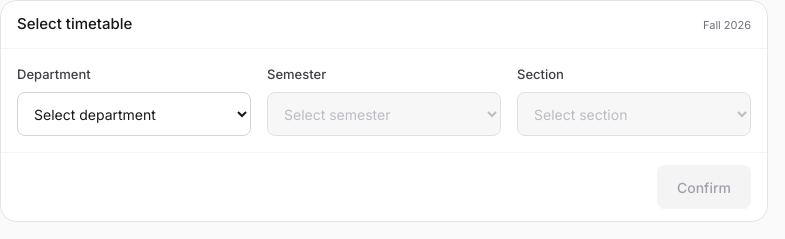
it: SectionPicker › progressively filters sections by department and semester
Select "CS" in the dropdown labelled "Department" at (134, 114), box [17, 92, 251, 136]
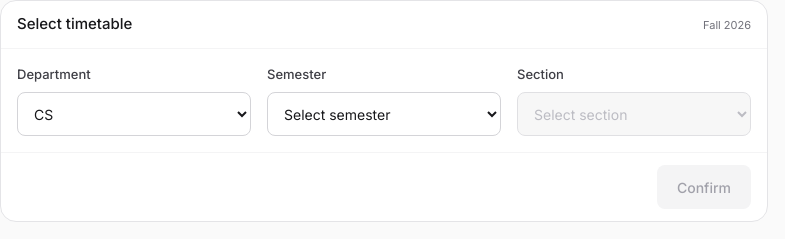
Select "Semester III" in the dropdown labelled "Semester" at (384, 114), box [267, 92, 501, 136]
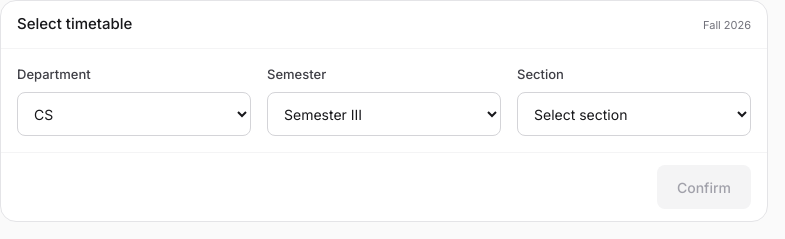
Check: the dropdown labelled "Section" is enabled, box [517, 92, 751, 136]
